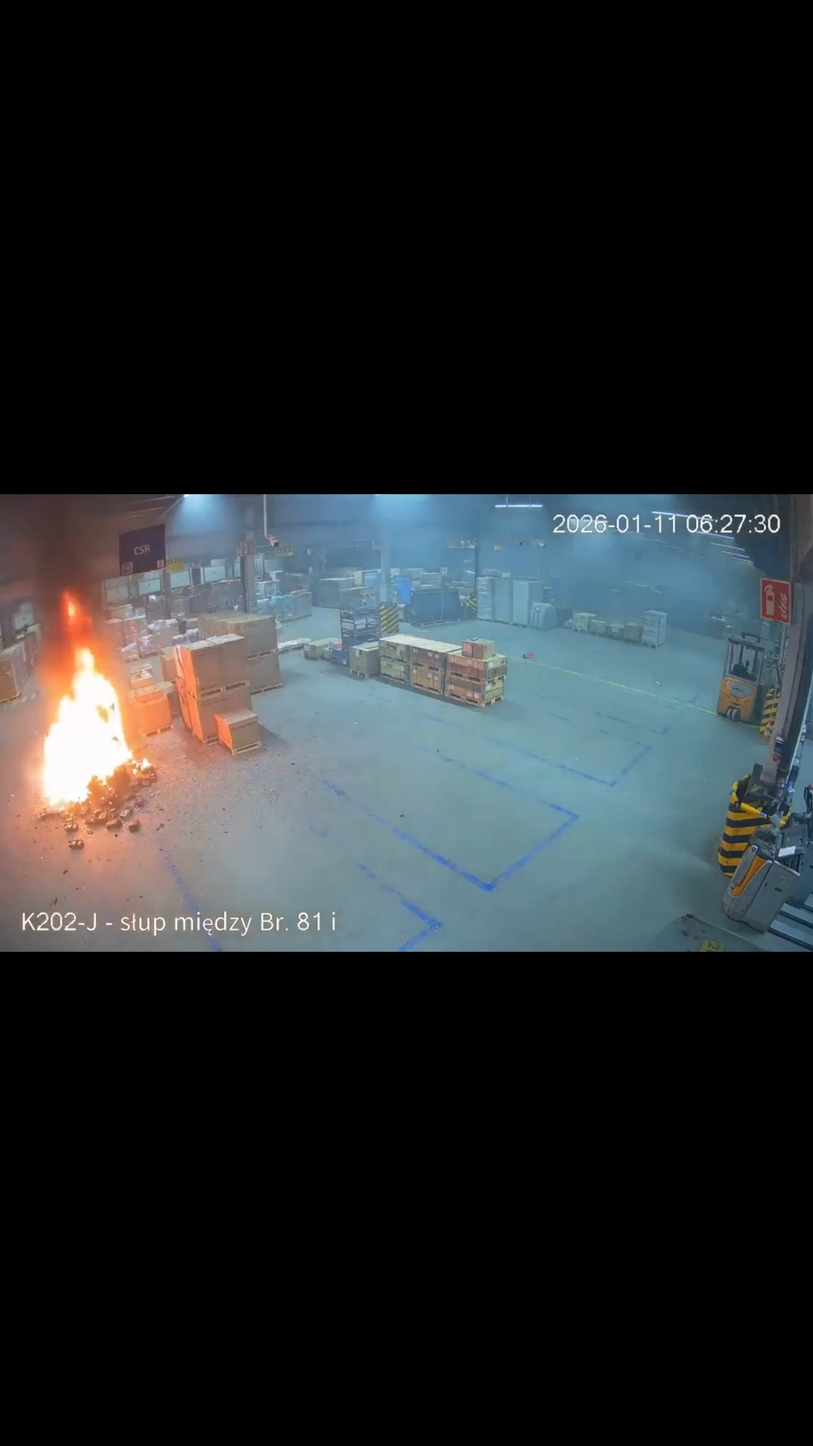fire: (39, 591, 154, 813)
smoke: (1, 496, 125, 706)
